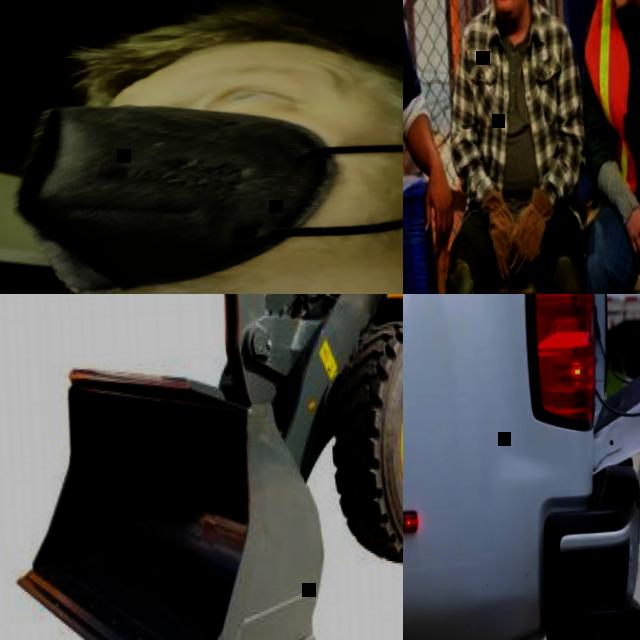Mask: (6, 82, 403, 294)
NO-Hardhat: (105, 0, 403, 91)
NO-Mask: (487, 0, 525, 22), (611, 0, 640, 13)
NO-Safety Vest: (473, 6, 560, 193)
Person: (0, 0, 403, 294), (418, 0, 602, 294), (566, 0, 640, 294), (403, 0, 468, 294)
Safety Vest: (577, 0, 640, 204)
vehicle: (0, 294, 403, 640), (403, 294, 640, 640)
